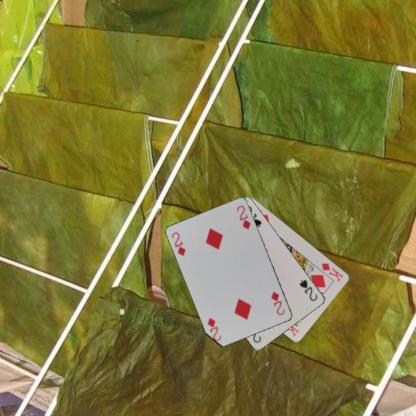2d: (169, 229, 187, 257), (269, 289, 286, 317)
2s: (297, 277, 319, 302)
Kd: (319, 260, 344, 283)
